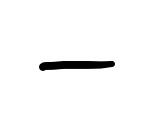minus: (38, 61, 116, 72)
